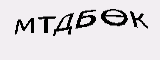Б: (75, 8, 96, 30)
Д: (52, 13, 73, 37)
К: (129, 10, 151, 30)
М: (13, 17, 35, 35)
Т: (37, 15, 57, 35)
Ө: (100, 8, 128, 27)
